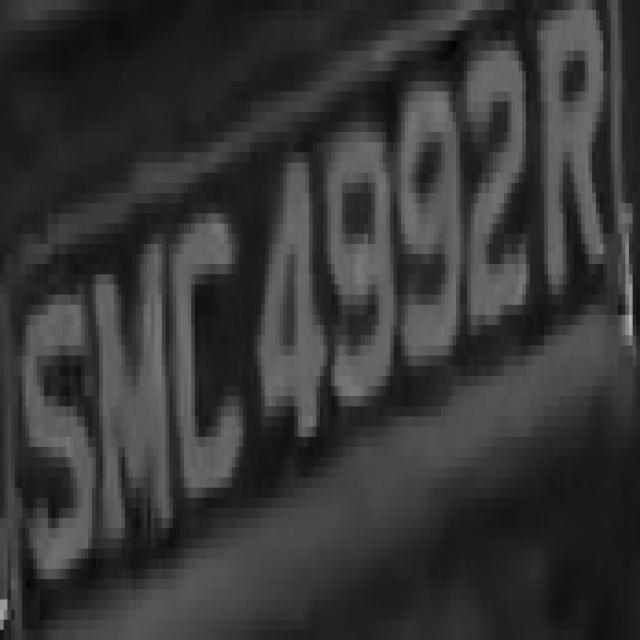2: (452, 41, 541, 396)
4: (239, 122, 331, 477)
9: (316, 112, 398, 477), (386, 51, 471, 386)
C: (162, 204, 250, 538)
M: (88, 223, 173, 569)
R: (533, 20, 618, 315)
S: (15, 254, 96, 609)
